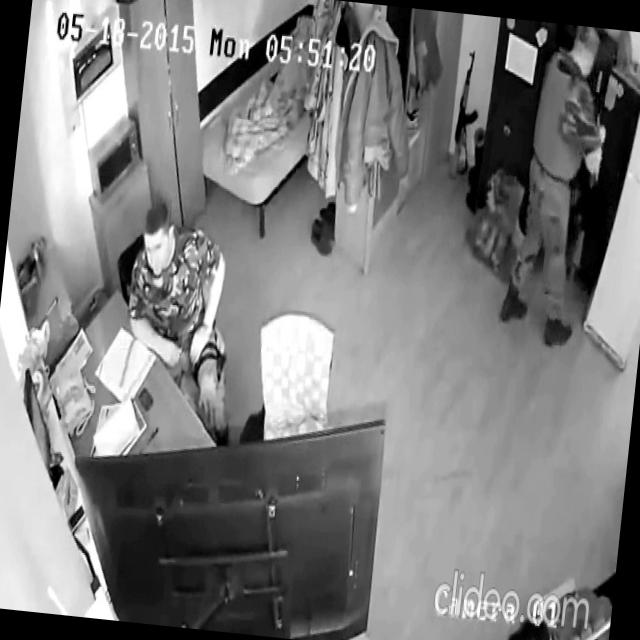gun: (446, 47, 484, 180)
person: (496, 21, 616, 352), (113, 193, 254, 448)
